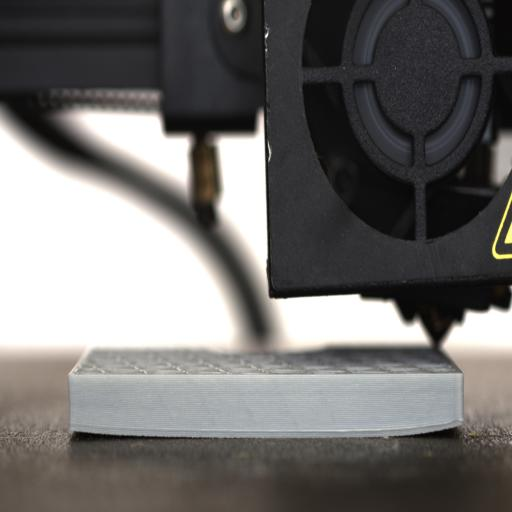warp: (410, 412, 473, 442), (57, 417, 108, 440)
